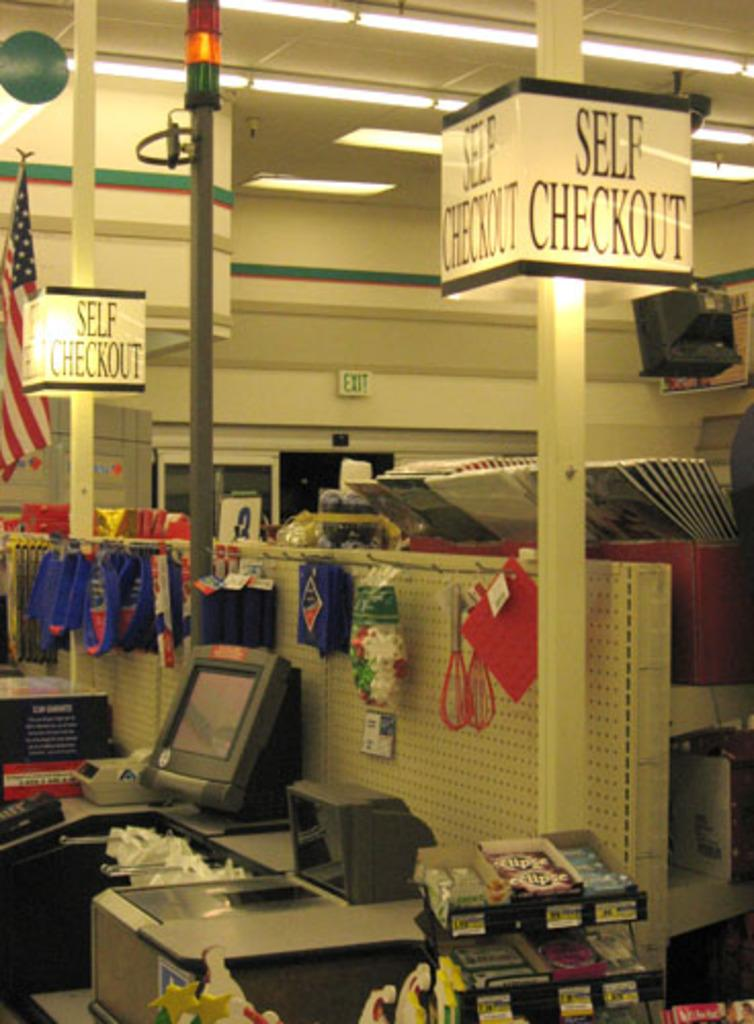Book: (342, 449, 543, 543), (582, 455, 736, 541)
